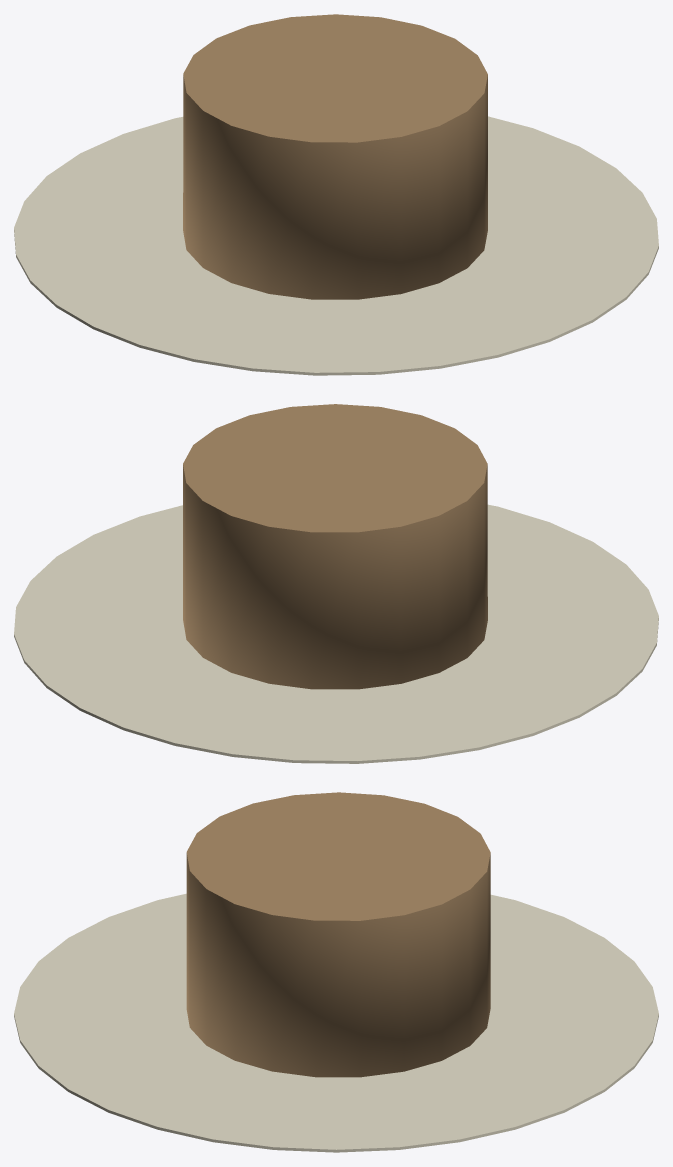
File: Cilek_1.fbx
3 renders of one model, top to bottom at view 1: azimuth 30°, elevation 25°; view 2: azimuth 150°, elevation 25°; view 3: azimuth 270°, elevation 25°, orthographic.
Visible parts, largest first — view 1: Cilek_Kek_1; view 2: Cilek_Kek_1; view 3: Cilek_Kek_1.
Boxes of the visible parts, left/top/right/bottom form: Cilek_Kek_1: left=14, top=14, right=658, bottom=375; Cilek_Kek_1: left=14, top=404, right=658, bottom=763; Cilek_Kek_1: left=14, top=792, right=658, bottom=1152.
Bounding box in the file's own units: 300 × 81.91 × 300.
